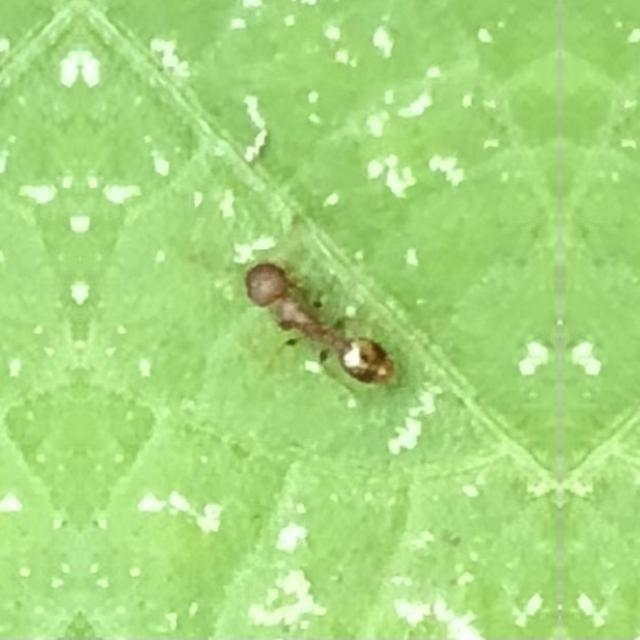Temnothorax: (215, 232, 429, 402)
